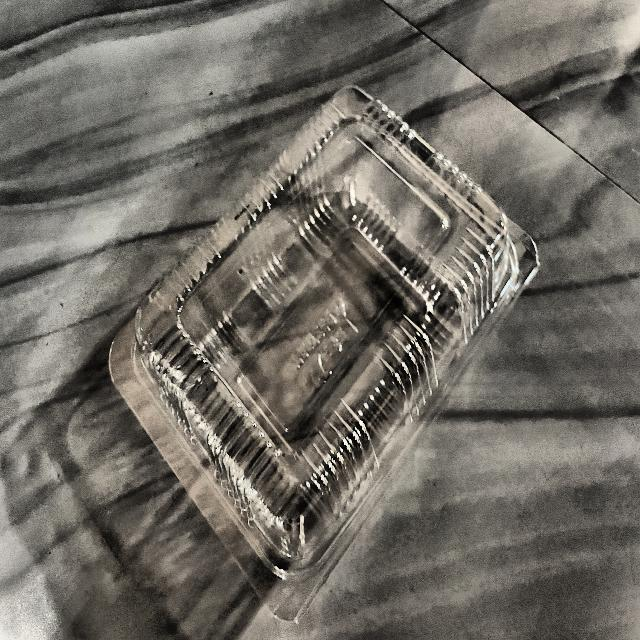plastic container: (135, 89, 510, 601)
